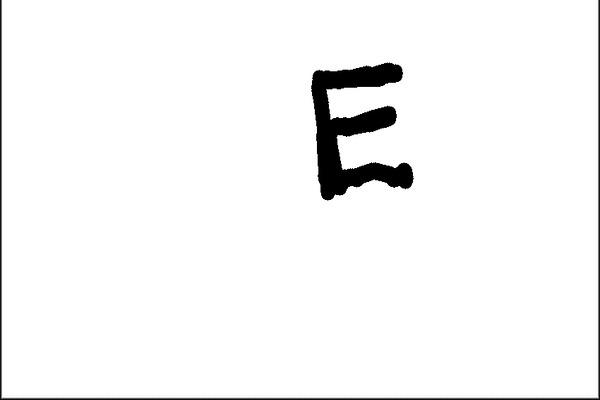E: (304, 61, 421, 204)
